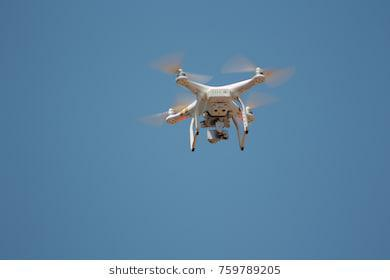drone: (133, 33, 300, 168)
